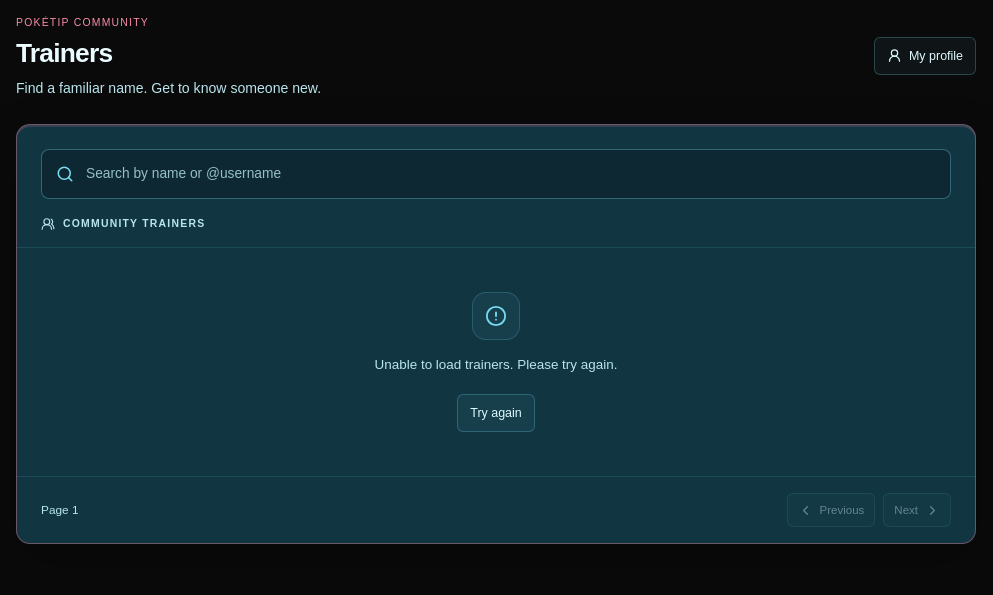
Test: trainer directory › shows an empty community and recovers from a request failure
The image size is (993, 595).
Check: the message shows "Unable to load trainers", box [375,356,617,372]
Step 1. Click the button "Try again" → (496, 413), box [457,394,535,432]
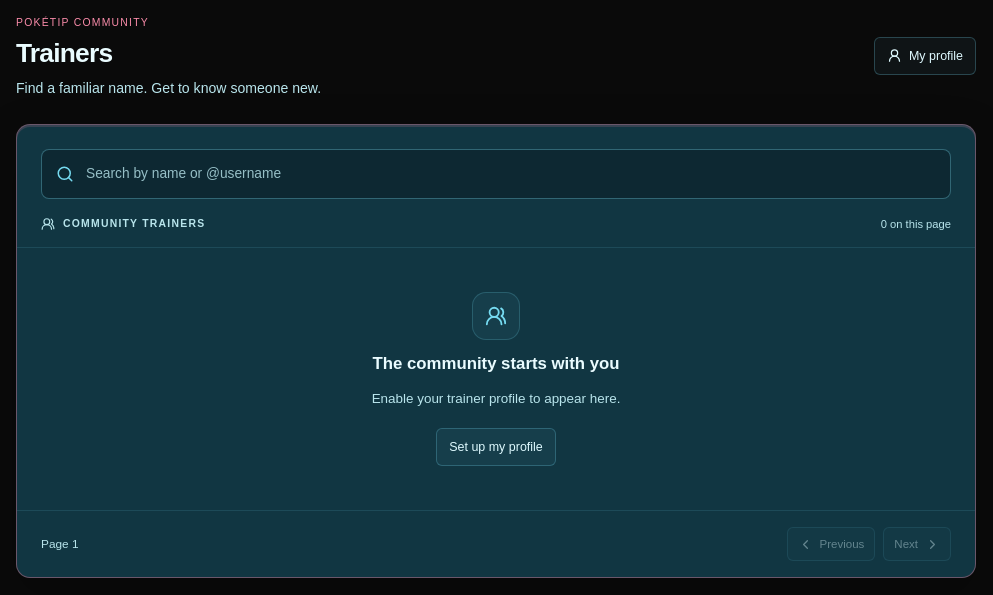
Check: the heading "The community starts with you" is shown, box [372,354,620,374]
